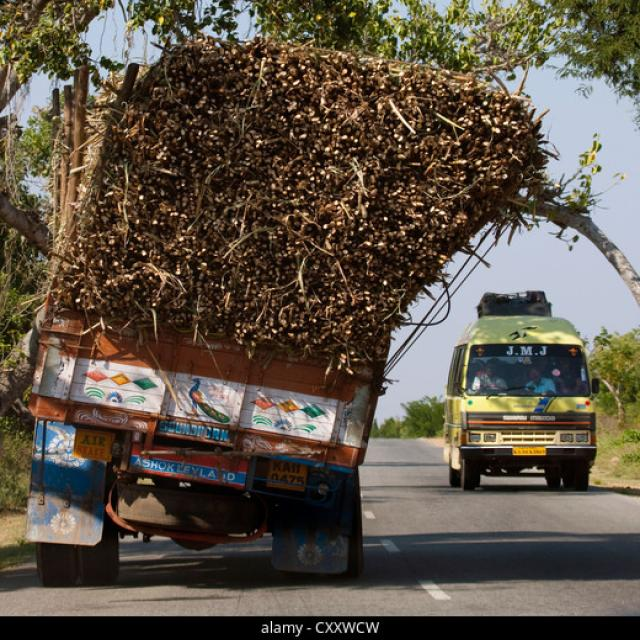goods: (55, 39, 548, 374)
truck: (26, 311, 376, 584)
